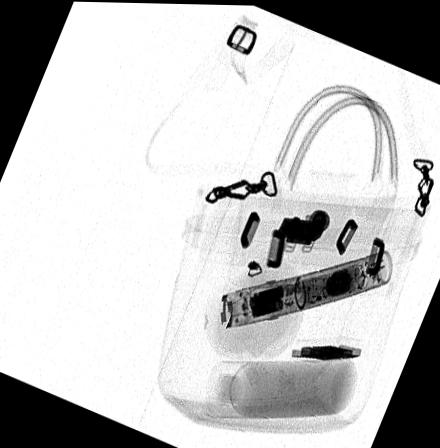Baton: (217, 248, 392, 329)
